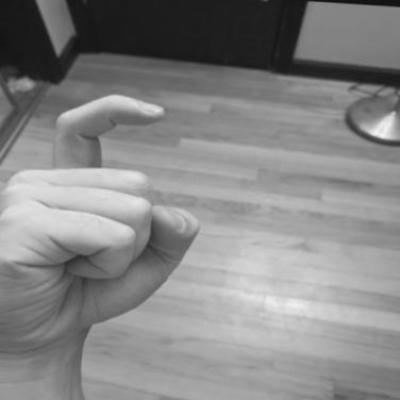hand: (0, 81, 213, 367)
